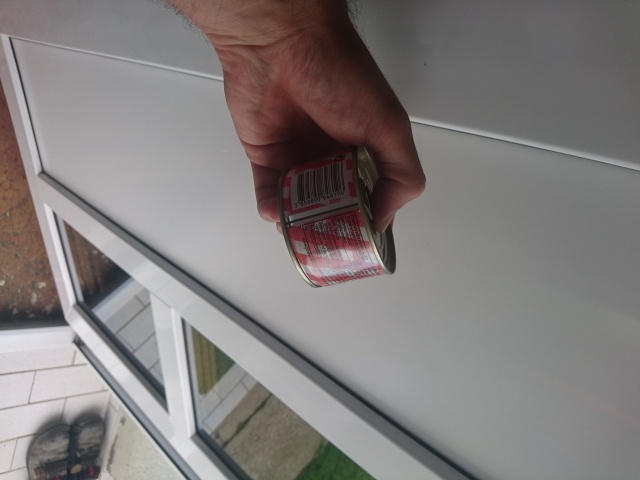Podravka Luncheon Meat 150g: (272, 138, 400, 291)
